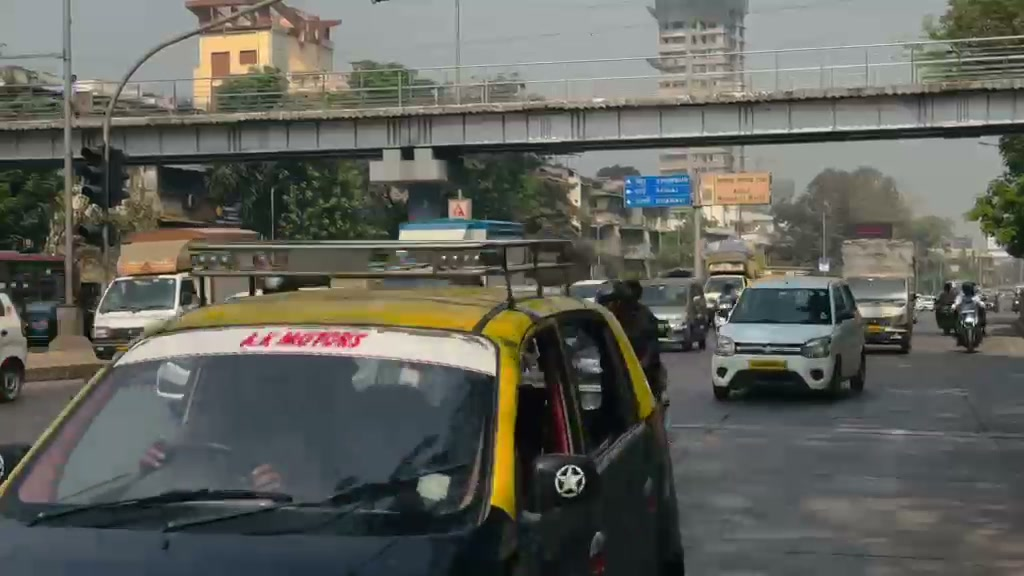bus: (81, 221, 595, 363)
car: (0, 285, 685, 571), (711, 278, 869, 401), (636, 279, 709, 352), (0, 291, 28, 402), (703, 274, 747, 317)
motorcycle: (953, 300, 987, 352)
pedestrian: (596, 279, 671, 413), (599, 279, 663, 383), (953, 281, 987, 328), (934, 281, 960, 334)
truck: (840, 238, 917, 353)
